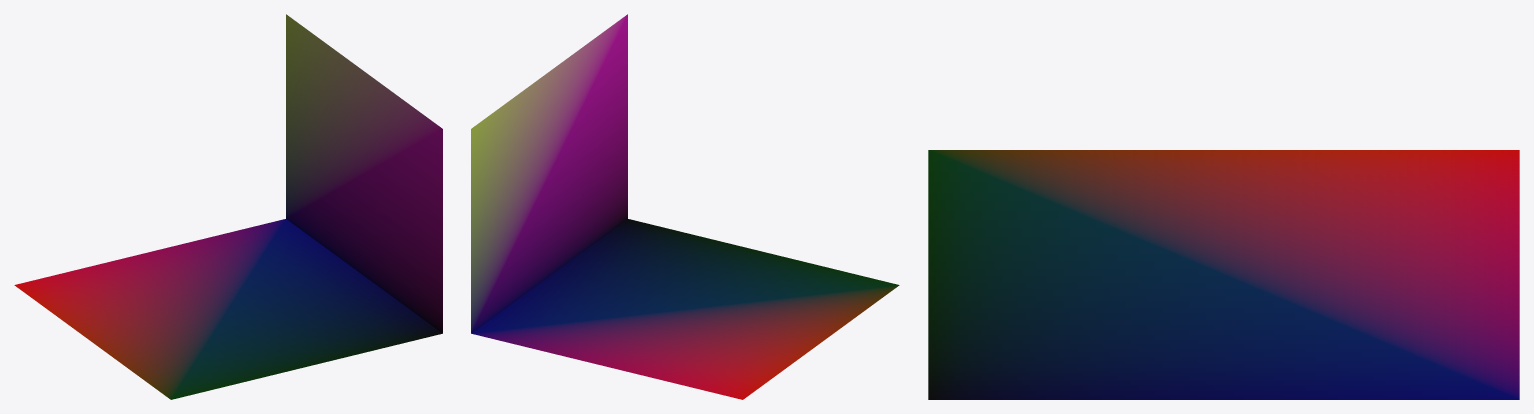
File: planecor.gltf
3 renders of one model, left to right at view 1: azimuth 30°, elevation 25°; view 2: azimuth 150°, elevation 25°; view 3: azimuth 270°, elevation 25°, orthographic. The views are drawn at different scales.
Visible parts, largest first — view 1: Plane; view 2: Plane; view 3: Plane.
Part boxes in pixels (x1=…): Plane: x1=14, y1=14, x2=442, y2=399; Plane: x1=471, y1=14, x2=899, y2=399; Plane: x1=928, y1=150, x2=1519, y2=399.
Size of the model in its own units: 2 by 1.44 by 2.
